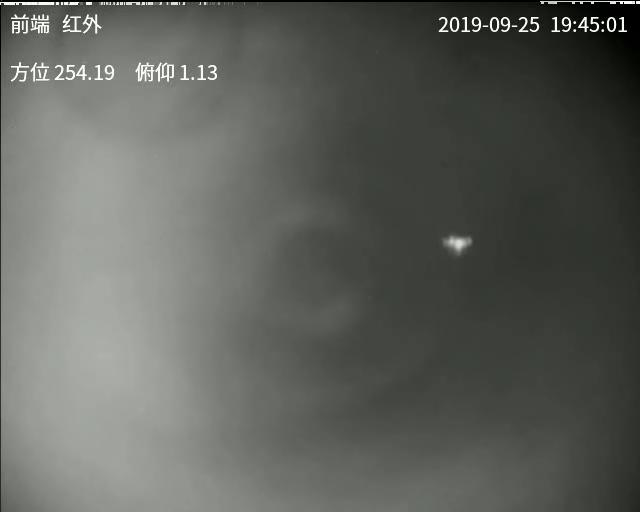uav: (441, 232, 477, 261)
